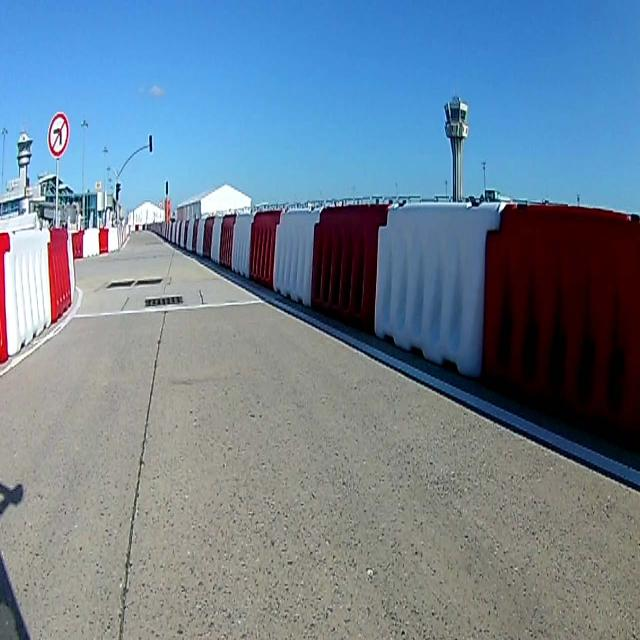soladonulmez: (48, 111, 68, 157)
